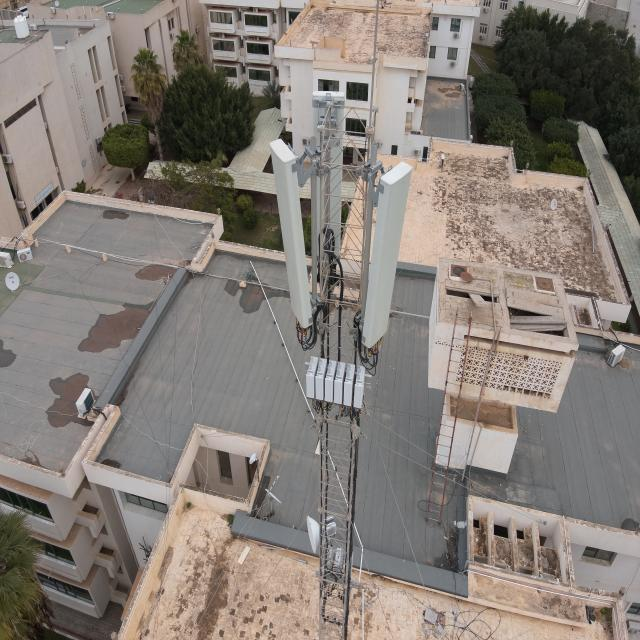antenna: (359, 160, 416, 347), (266, 135, 318, 336), (306, 86, 348, 259)
lighnig-rad: (366, 0, 384, 135)
microware-dish: (303, 509, 342, 555)
power-box: (316, 541, 354, 578)
radio-unit: (303, 345, 375, 419)
